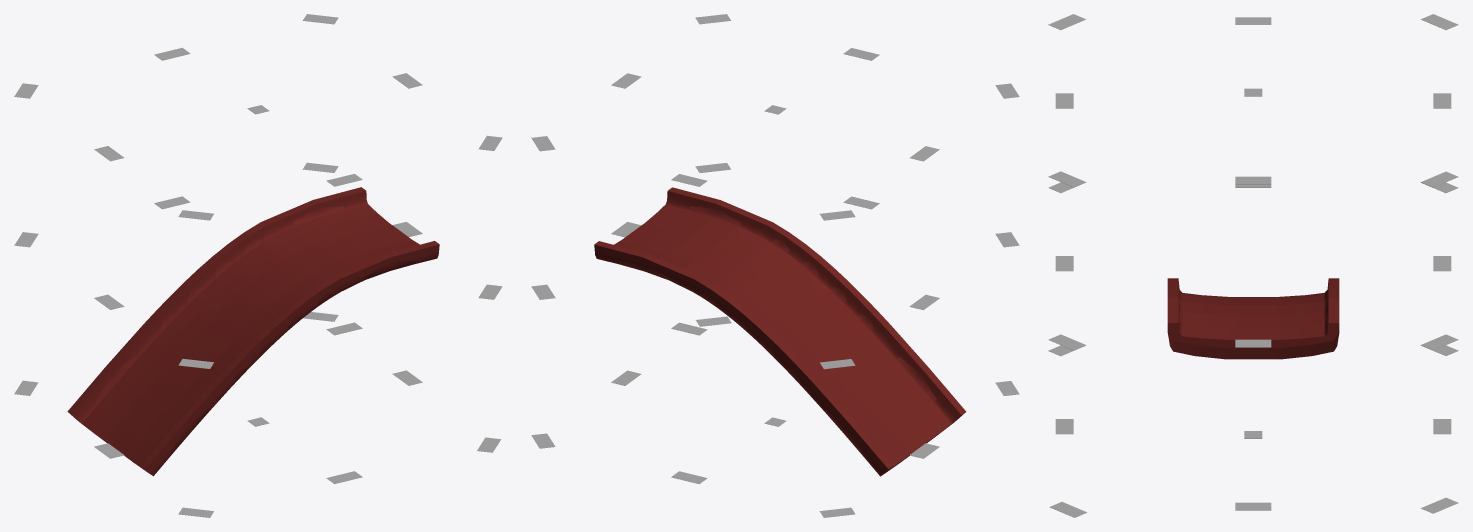
The model's file is FlatConnector45Down.fbx.
The picture shows the model from 3 angles, left to right: view 1: azimuth 30°, elevation 25°; view 2: azimuth 150°, elevation 25°; view 3: azimuth 270°, elevation 25°; orthographic projection. The views are drawn at different scales.
Visible parts, largest first — view 1: pPipe3; view 2: pPipe3; view 3: pPipe3.
Boxes of the visible parts, x1=… form: pPipe3: x1=67, y1=187, x2=439, y2=476; pPipe3: x1=594, y1=187, x2=966, y2=476; pPipe3: x1=1167, y1=278, x2=1339, y2=359.
Size of the model in its own units: 22.83 by 21.01 by 22.83.
